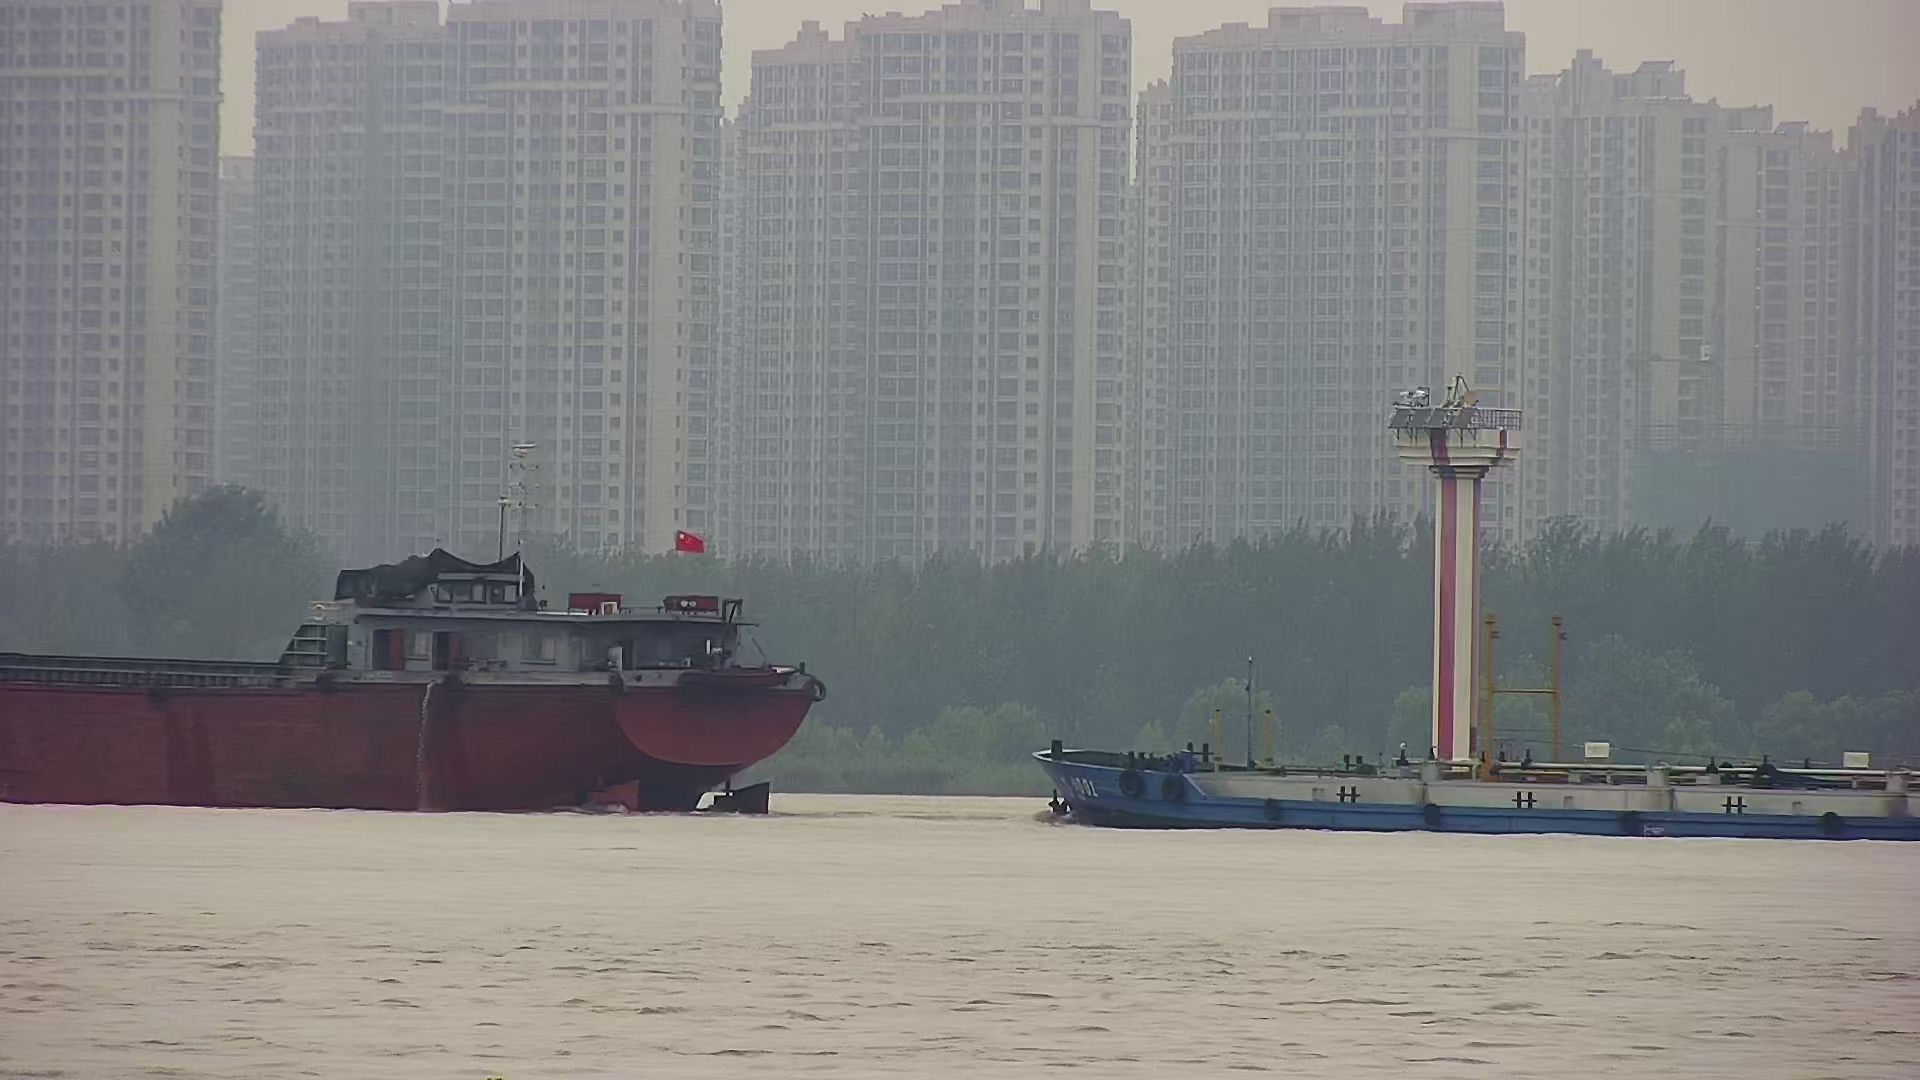platform: (1396, 375, 1520, 848)
ship: (1, 467, 828, 818), (1033, 617, 1920, 849)
